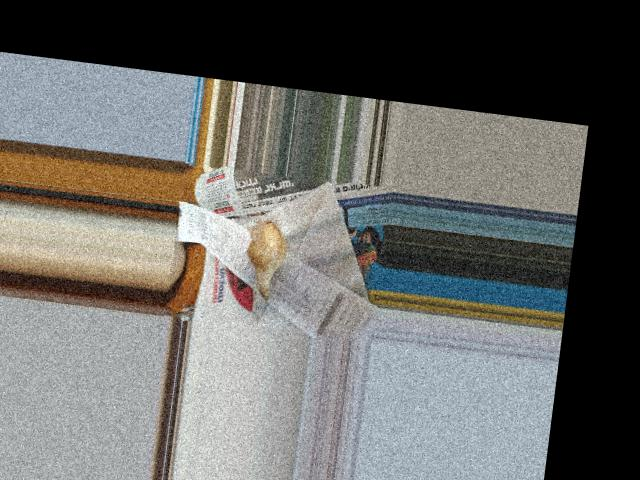onion: (242, 217, 290, 294)
